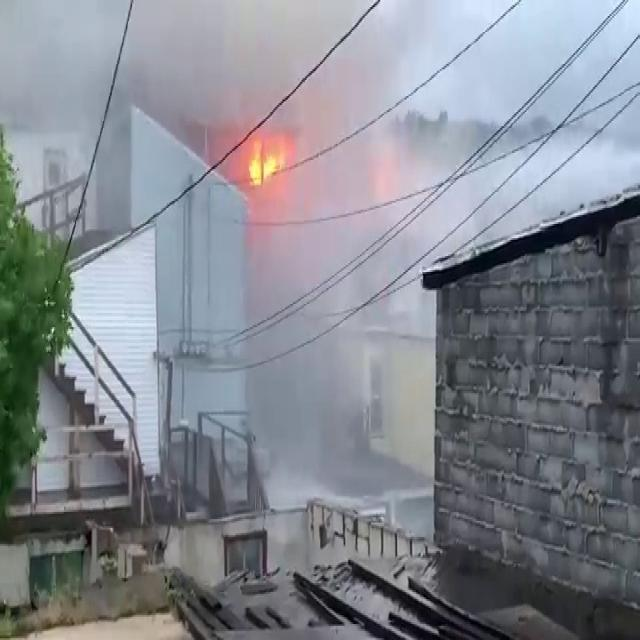Fire: (240, 132, 290, 200)
Smoke: (168, 0, 436, 473), (426, 73, 640, 254)
